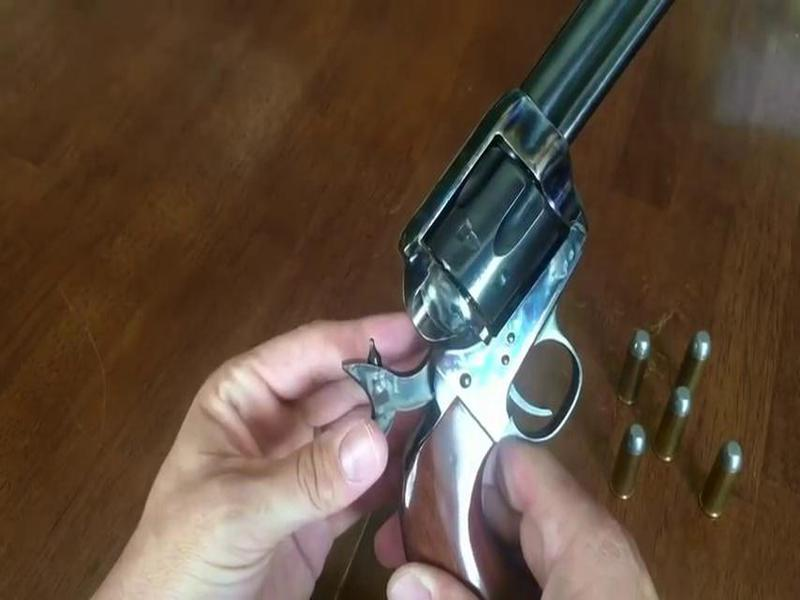Revolver: (341, 1, 627, 512)
